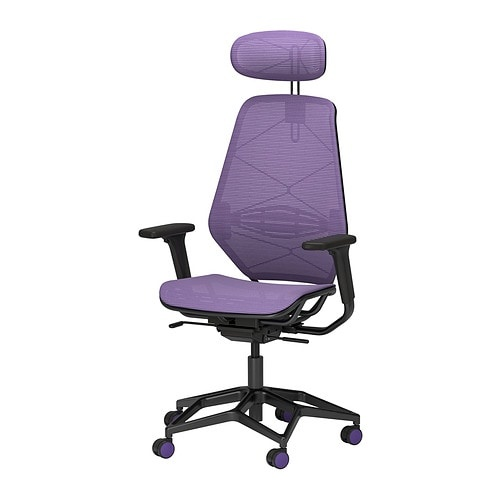obstacle: (139, 31, 361, 468)
